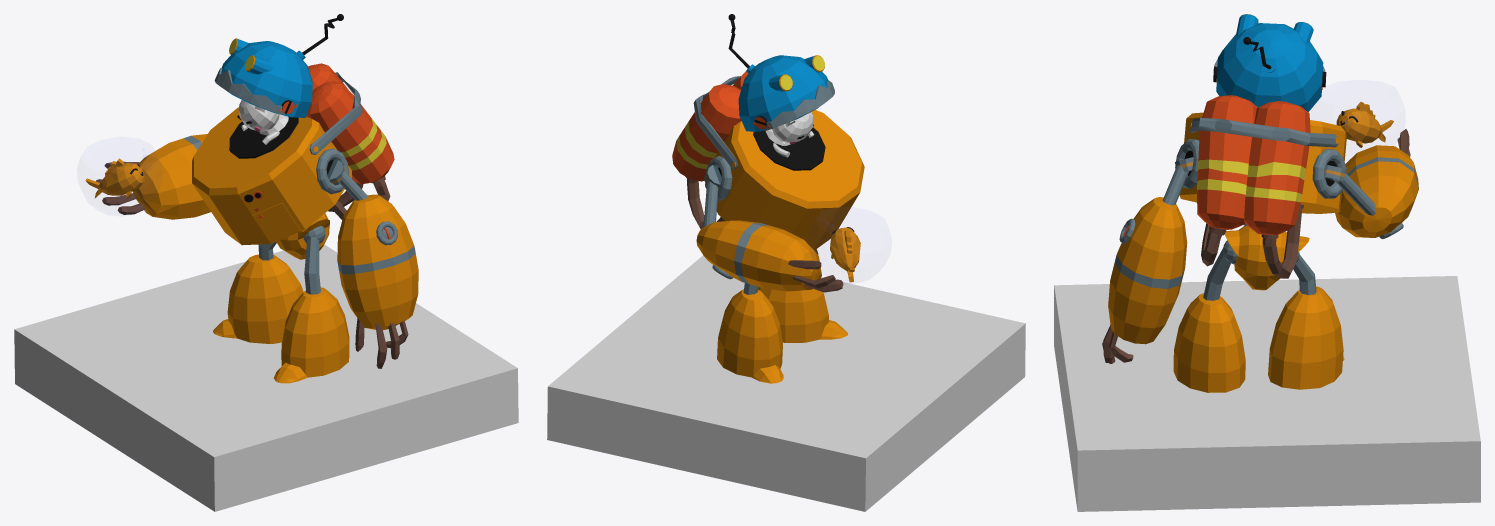
Rendered from robocat.gltf.
3 renders of one model, left to right at view 1: azimuth 30°, elevation 25°; view 2: azimuth 150°, elevation 25°; view 3: azimuth 270°, elevation 25°, orthographic. The views are drawn at different scales.
Visible parts, largest first — view 1: node_MeshObject1345845824-PolyPaper13, node_MeshObject440990272-PolyPaper16; view 2: node_MeshObject1345845824-PolyPaper13, node_MeshObject440990272-PolyPaper16; view 3: node_MeshObject1345845824-PolyPaper13, node_MeshObject440990272-PolyPaper16.
Boxes of the visible parts, box(x1,y1,x2,y2) form: node_MeshObject1345845824-PolyPaper13: box(14, 14, 518, 511); node_MeshObject440990272-PolyPaper16: box(96, 63, 397, 383); node_MeshObject1345845824-PolyPaper13: box(547, 14, 1025, 511); node_MeshObject440990272-PolyPaper16: box(672, 70, 864, 377); node_MeshObject1345845824-PolyPaper13: box(1054, 14, 1480, 511); node_MeshObject440990272-PolyPaper16: box(1119, 76, 1410, 392).
Bounding box in the file's own units: 1.25 × 1.37 × 1.25.
